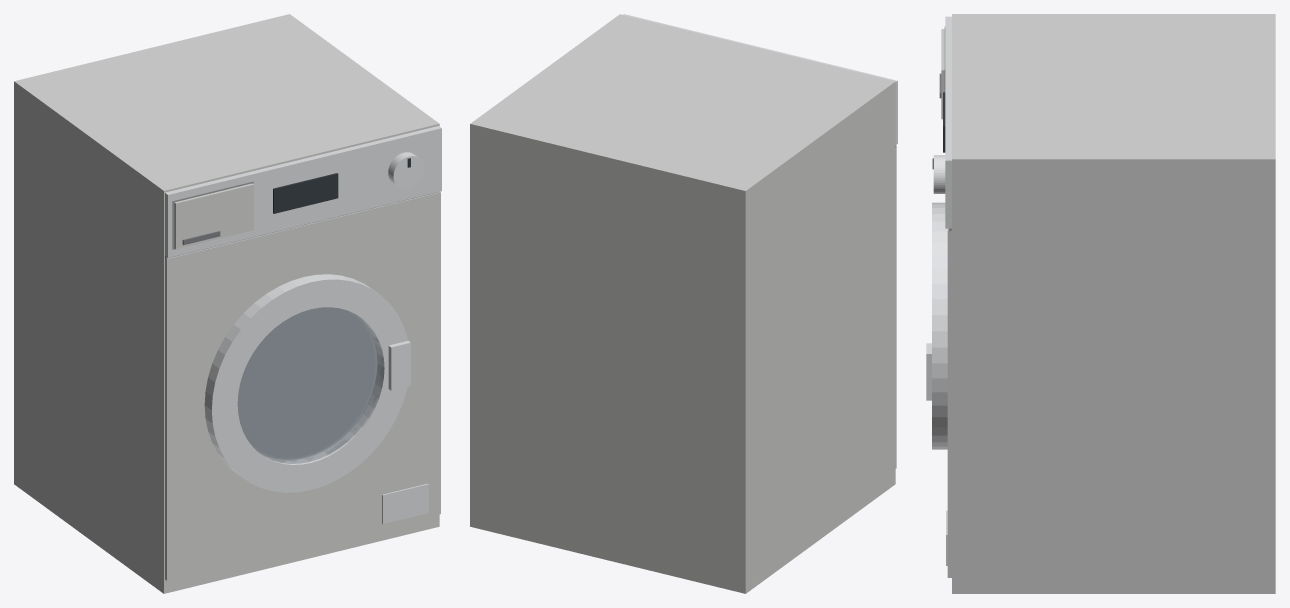
The model's file is waschmaschine.glb.
3 renders of one model, left to right at view 1: azimuth 30°, elevation 25°; view 2: azimuth 150°, elevation 25°; view 3: azimuth 270°, elevation 25°, orthographic. The views are drawn at different scales.
Visible parts, largest first — view 1: Gehäuse, Chrom, Glas, Trommel, Bedienblende, Display, Fuge; view 2: Gehäuse, Bedienblende; view 3: Gehäuse, Chrom, Bedienblende.
Part boxes in pixels (box(x1,y1,x2,y2)): Gehäuse: box(14, 14, 440, 593); Chrom: box(204, 152, 424, 492); Glas: box(237, 307, 383, 463); Trommel: box(238, 307, 375, 457); Bedienblende: box(165, 126, 441, 523); Display: box(273, 158, 410, 213); Fuge: box(165, 181, 439, 258); Gehäuse: box(470, 14, 896, 593); Bedienblende: box(623, 14, 897, 144); Gehäuse: box(941, 14, 1275, 593); Chrom: box(926, 155, 947, 449); Bedienblende: box(945, 16, 951, 565).
Size of the model in its own units: 0.6 by 0.85 by 0.61.
